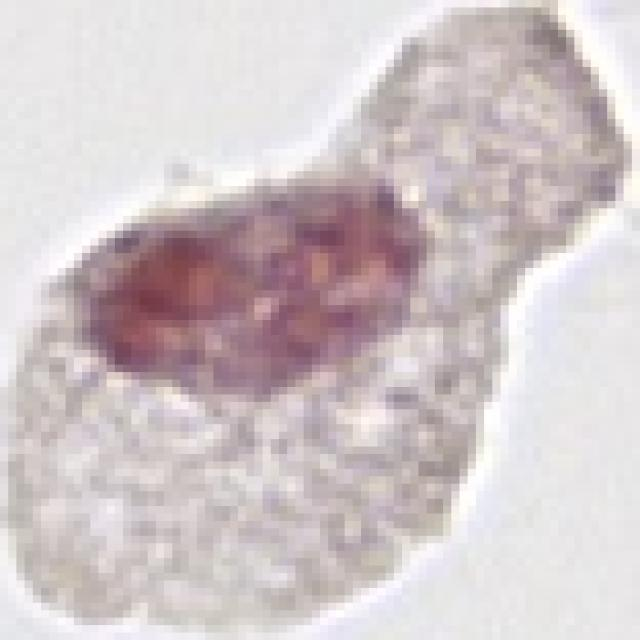nucleus: (52, 151, 459, 414)
